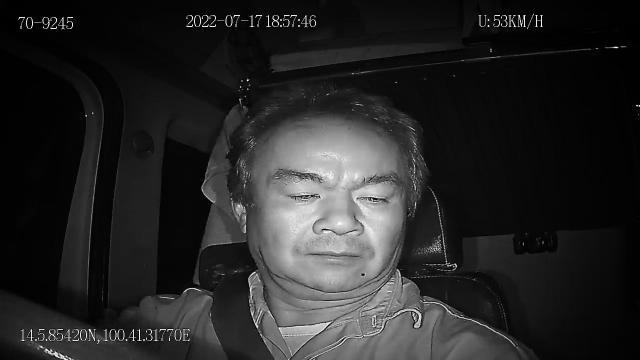SafeDriving: (346, 180, 401, 213), (272, 178, 328, 208)
Seatbelt: (208, 268, 278, 360)
